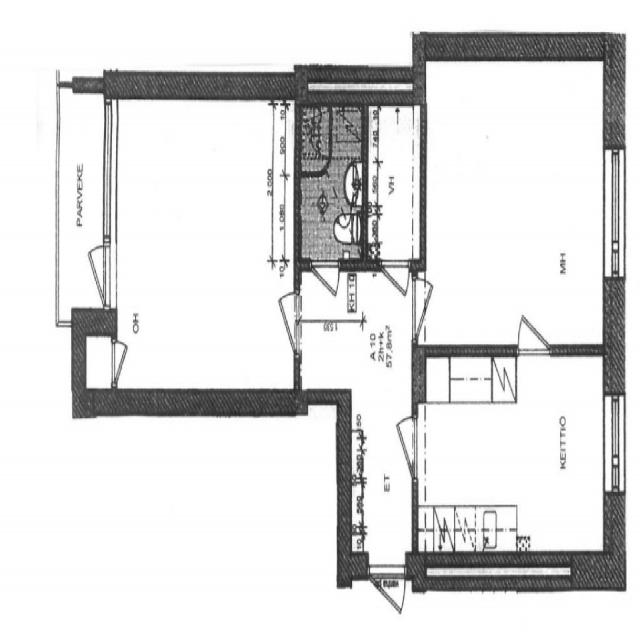door: (369, 563, 404, 640), (72, 245, 110, 306), (413, 279, 450, 340), (518, 288, 550, 357), (382, 418, 418, 479), (264, 293, 300, 353), (381, 260, 410, 324), (311, 259, 339, 325), (112, 342, 138, 383)
